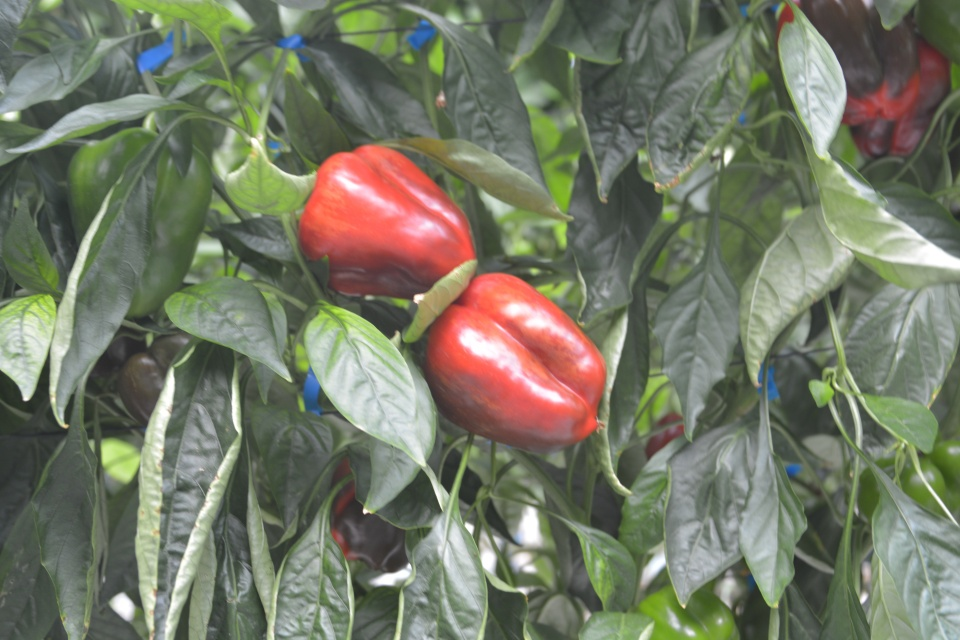fruit: (424, 269, 609, 456), (296, 144, 477, 303), (64, 127, 212, 321), (774, 0, 922, 126), (848, 8, 949, 158), (842, 428, 960, 527), (329, 456, 409, 573), (116, 330, 189, 425), (637, 582, 740, 640), (86, 316, 151, 378)
